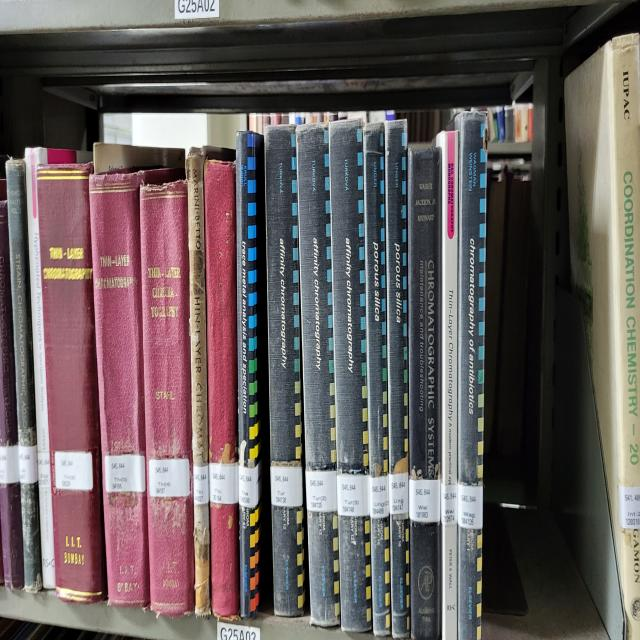Book: (36, 165, 106, 603), (90, 173, 150, 609), (140, 179, 195, 614), (25, 146, 78, 590), (186, 146, 235, 617), (296, 124, 340, 628), (329, 122, 371, 630), (264, 127, 305, 617), (456, 111, 488, 639), (204, 160, 240, 617), (5, 160, 42, 593), (409, 146, 441, 639), (236, 130, 268, 617), (364, 124, 390, 636), (385, 122, 410, 639), (436, 130, 459, 639), (0, 200, 24, 590)
Label: (149, 457, 190, 498), (336, 473, 370, 517), (55, 452, 94, 490), (105, 455, 145, 492), (270, 465, 302, 509), (409, 479, 441, 522), (305, 471, 338, 511), (209, 463, 239, 503), (458, 484, 482, 530), (239, 460, 261, 509), (369, 473, 389, 517), (389, 471, 409, 514), (19, 444, 39, 484), (0, 444, 20, 484), (441, 484, 458, 525), (194, 465, 209, 506), (38, 452, 51, 487)
